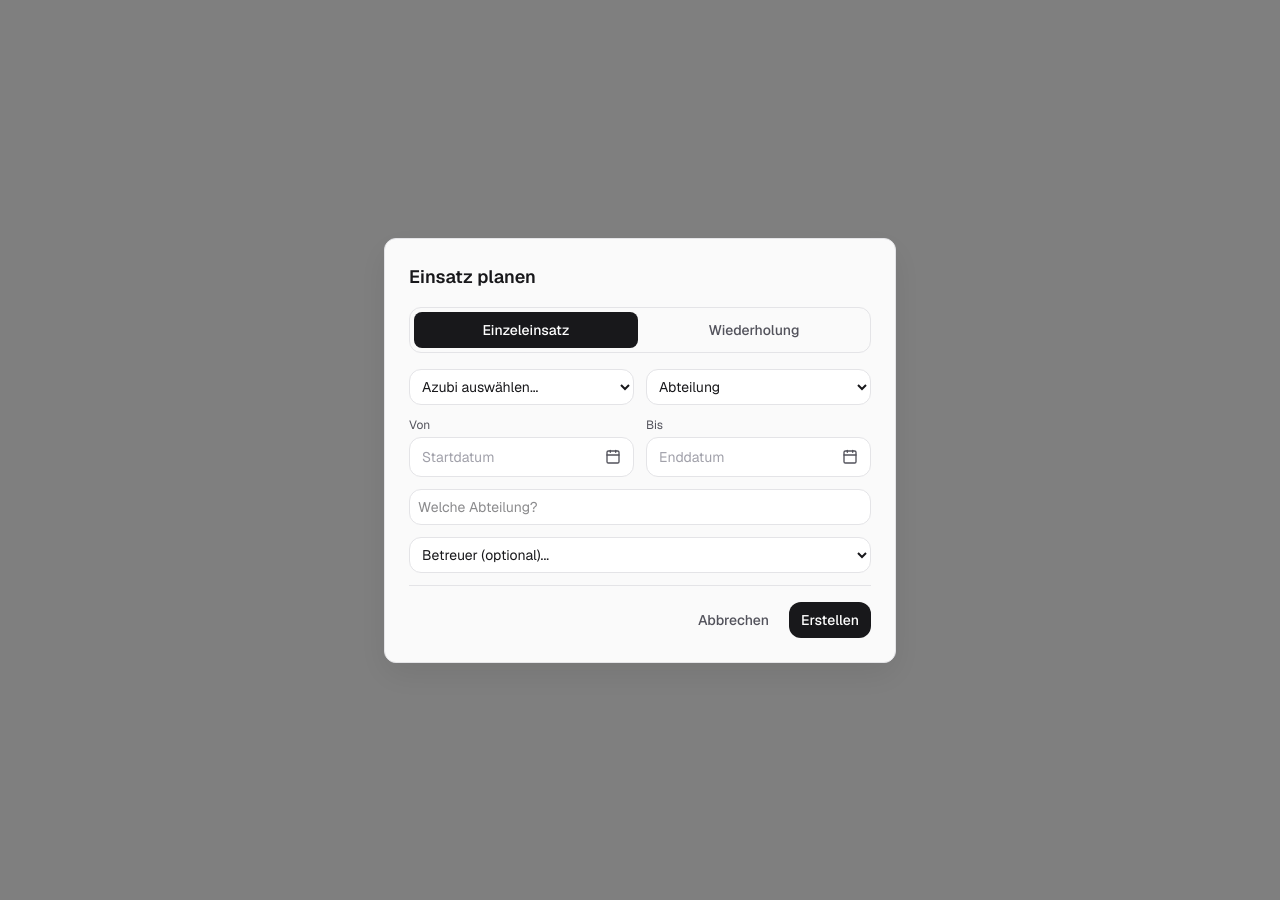
Test: AssignmentModal › shows weekday buttons in recurring mode
The image size is (1280, 900).
Click the button "Wiederholung": (754, 330) top-left (642, 312), bottom-right (866, 348)
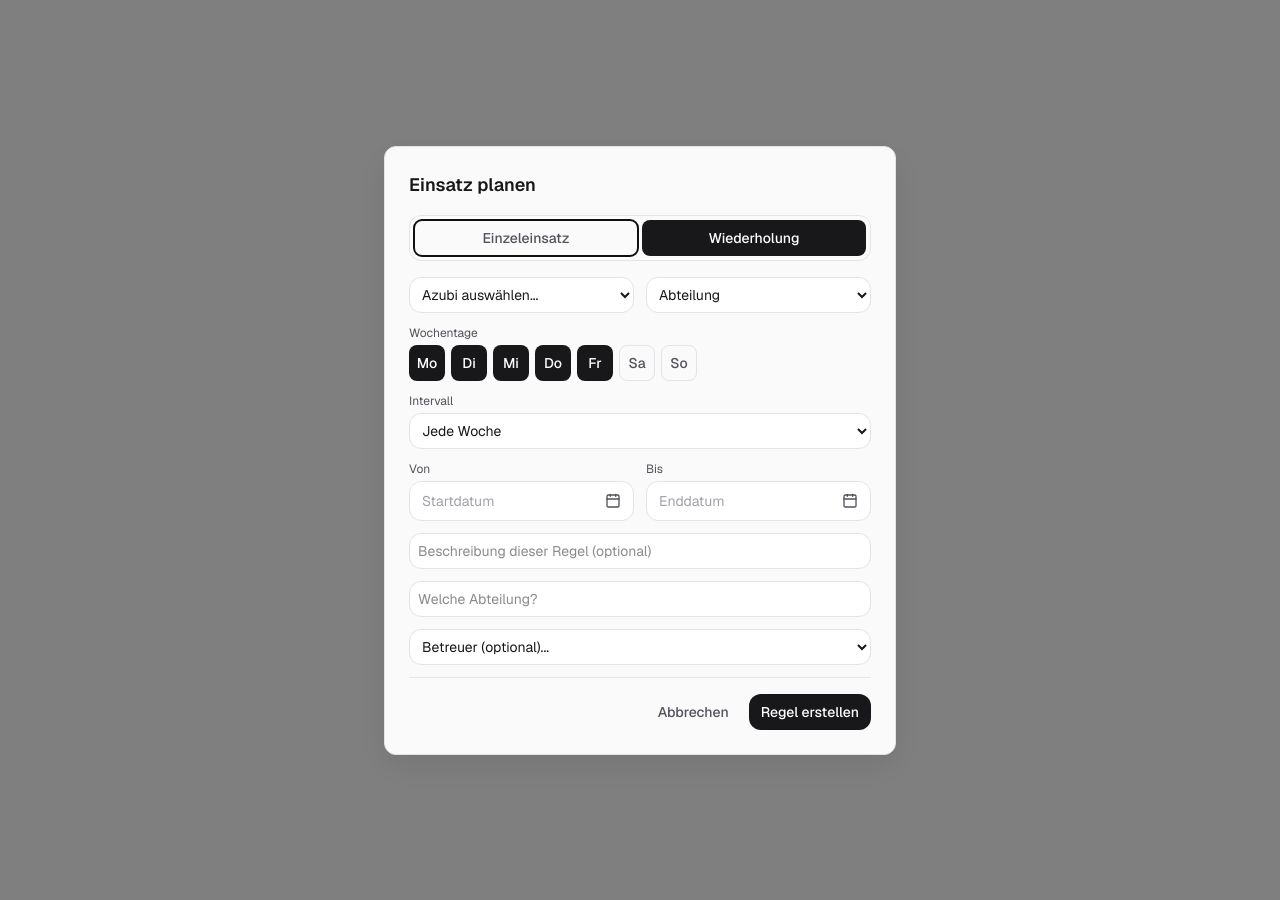
Now the button "Mo" is shown, box top-left (409, 344), bottom-right (445, 380)
Now the button "Di" is shown, box top-left (451, 344), bottom-right (487, 380)
Now the button "Mi" is shown, box top-left (493, 344), bottom-right (529, 380)
